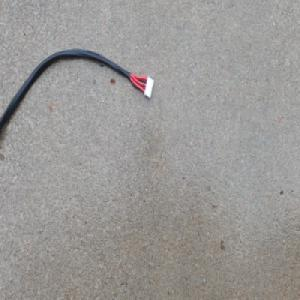Wire: (0, 46, 155, 144)
